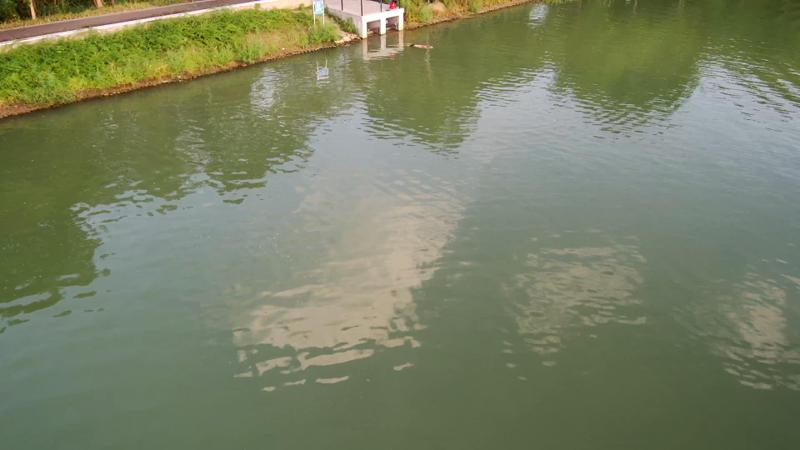swimmers: (404, 43, 434, 50)
